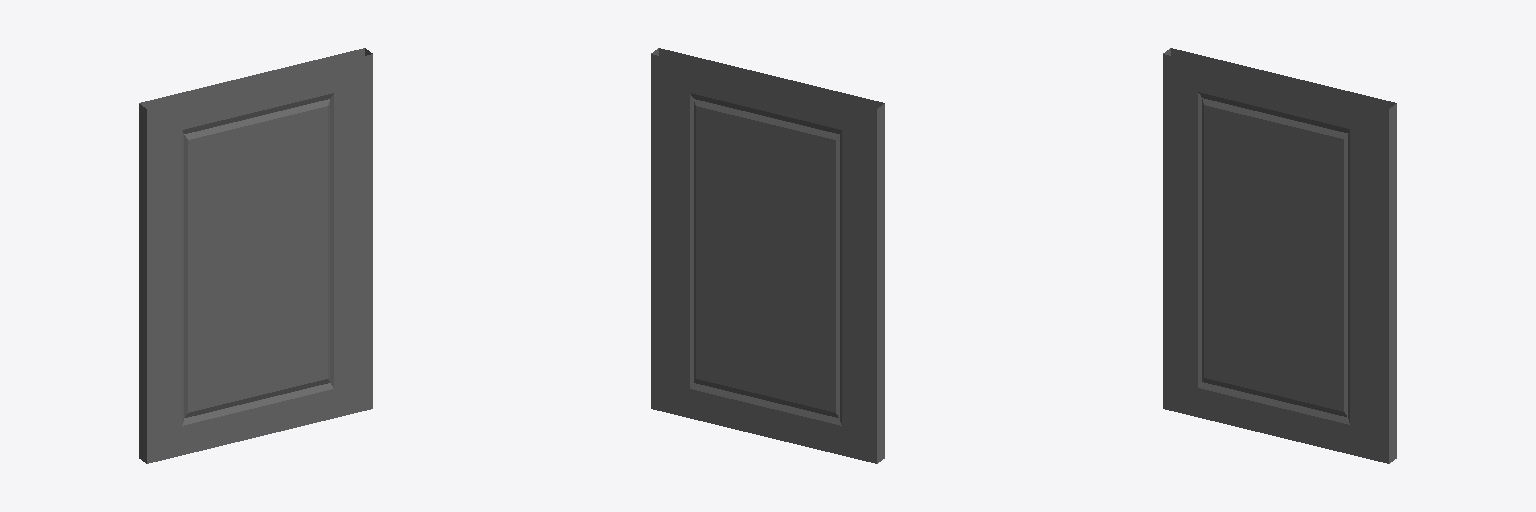
The model's file is Door 3.obj.
3 views of the same model, side by side, from view 1: azimuth 30°, elevation 25°; view 2: azimuth 150°, elevation 25°; view 3: azimuth 330°, elevation 25° (orthographic).
Parts seen in each view (by area): view 1: Door 3; view 2: Door 3; view 3: Door 3.
Part boxes in pixels (x1,y1,x2,y2): Door 3: (139,48,372,463); Door 3: (651,48,884,463); Door 3: (1163,48,1396,463).
Bounding box in the file's own units: 2 × 3 × 0.125.